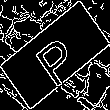P_NW: (28, 24, 82, 86)
